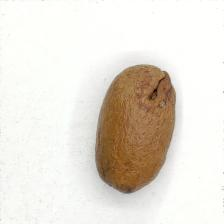NG: (136, 64, 174, 111)
